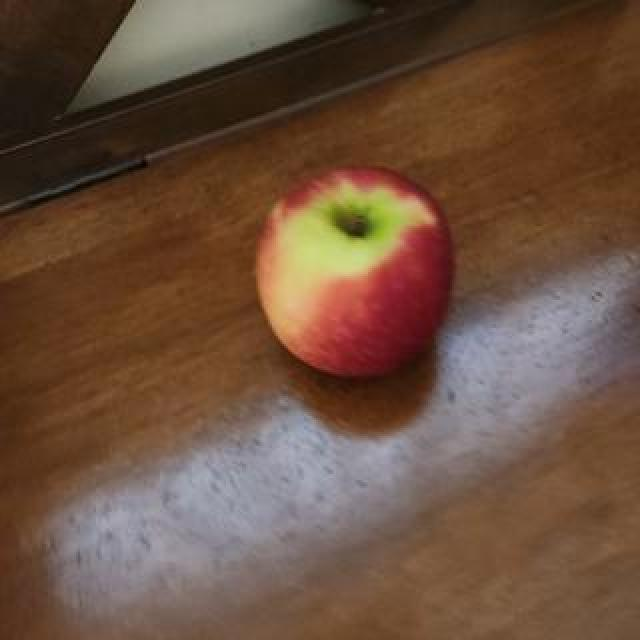Fresh Apple: (245, 155, 467, 397)
